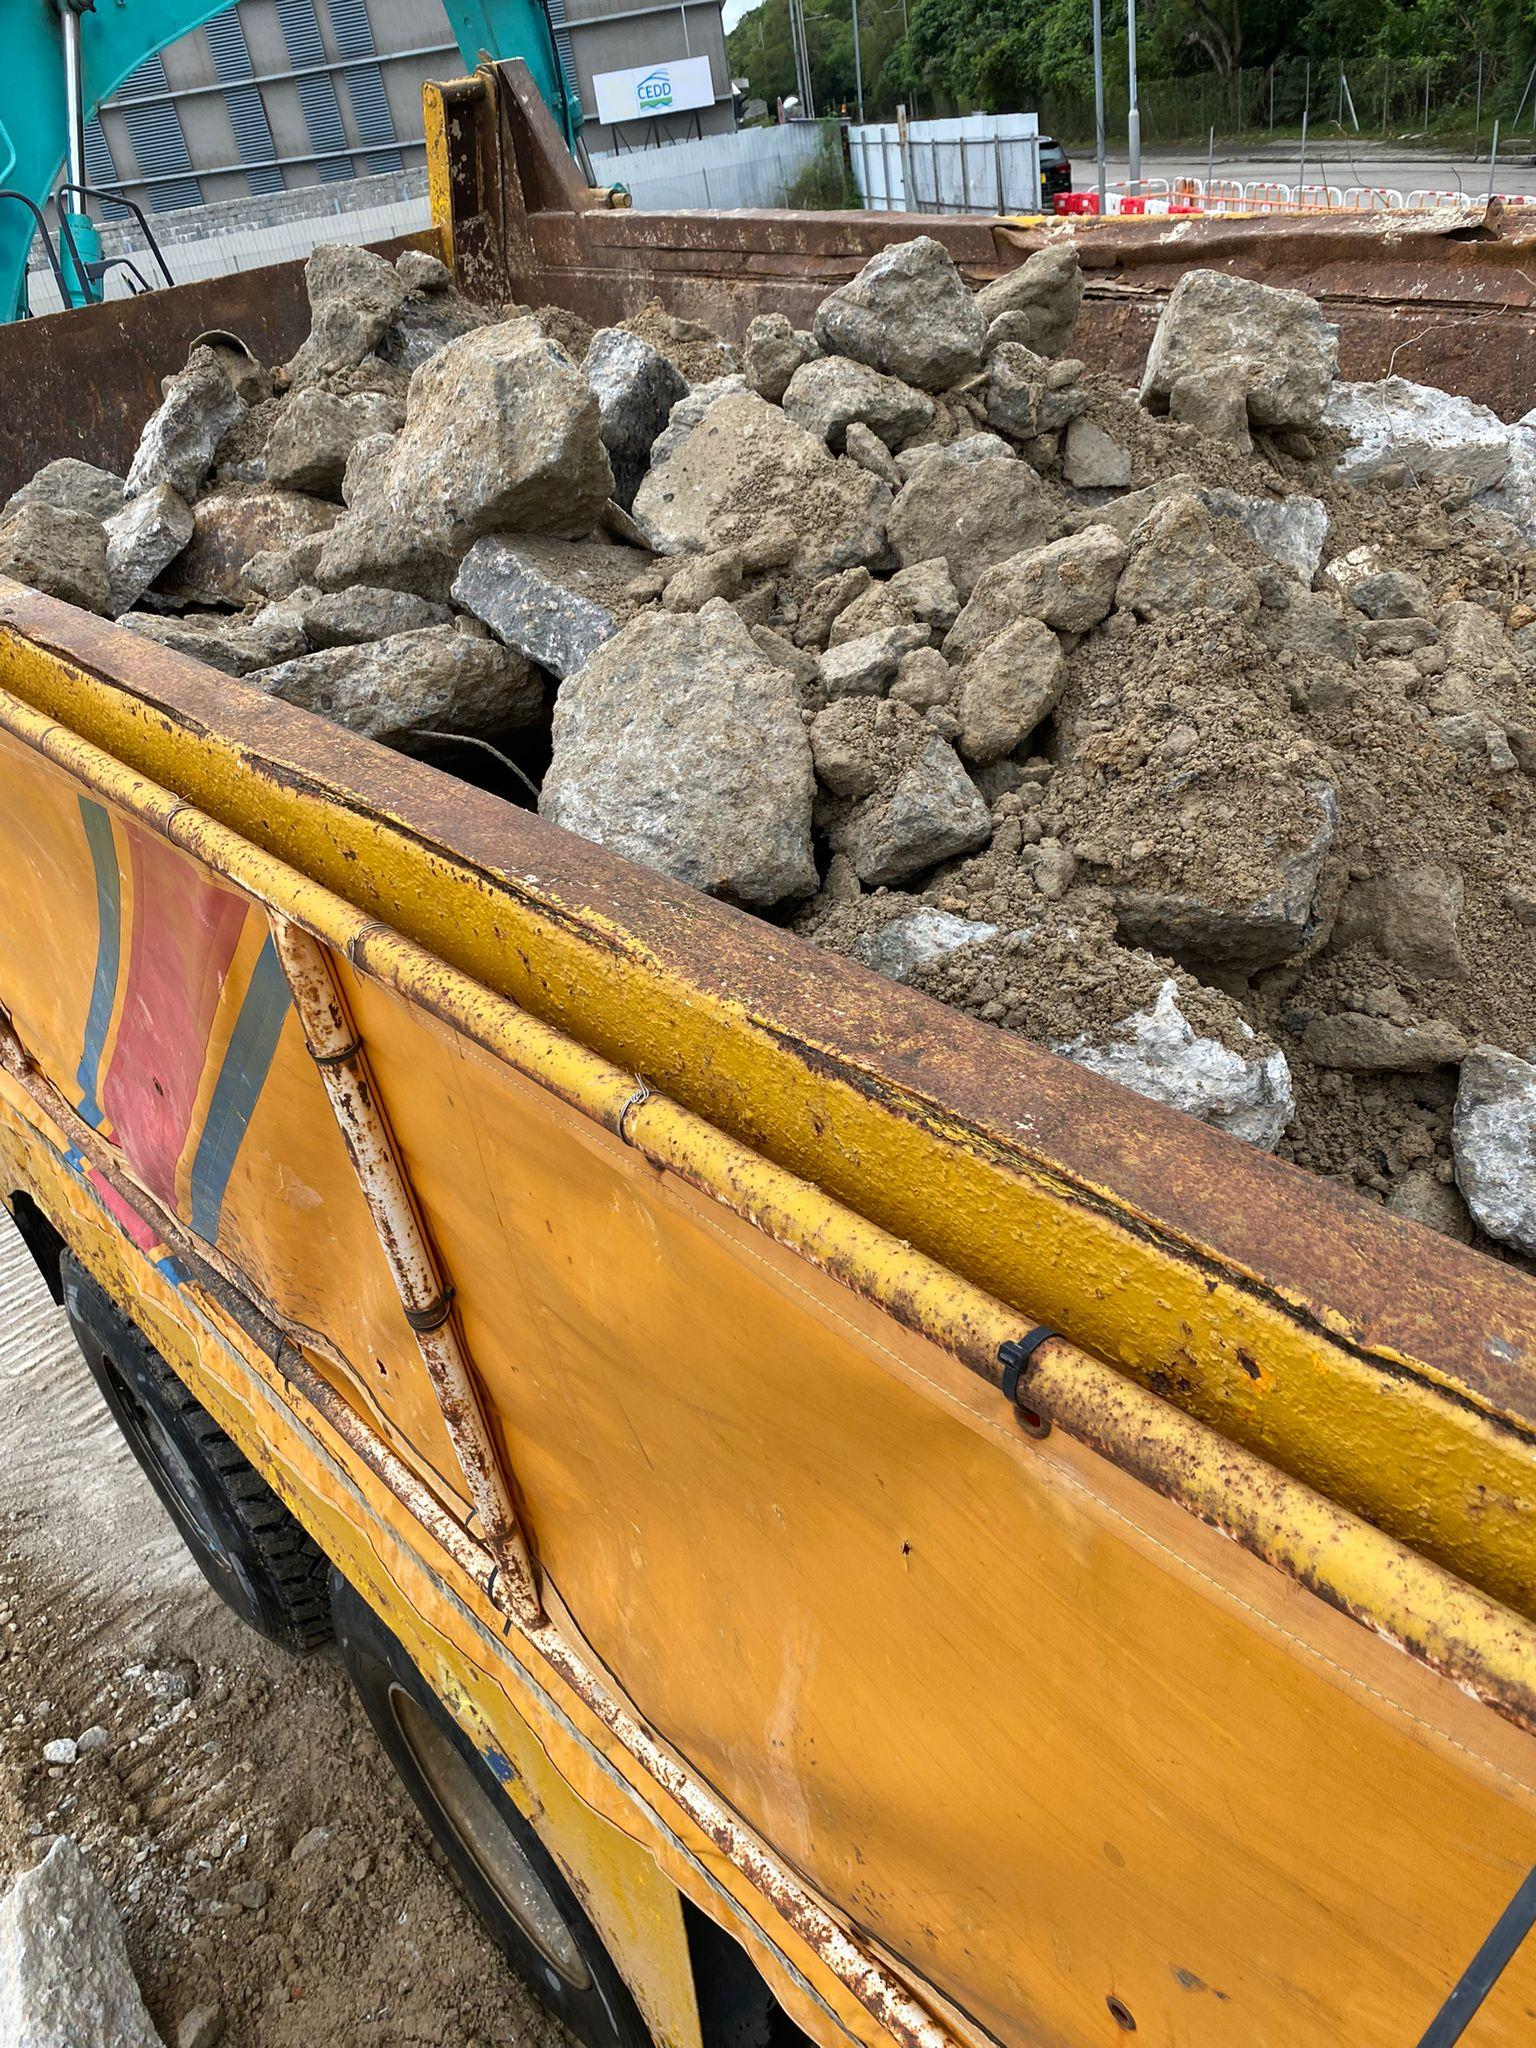dry: (16, 237, 1526, 1240)
